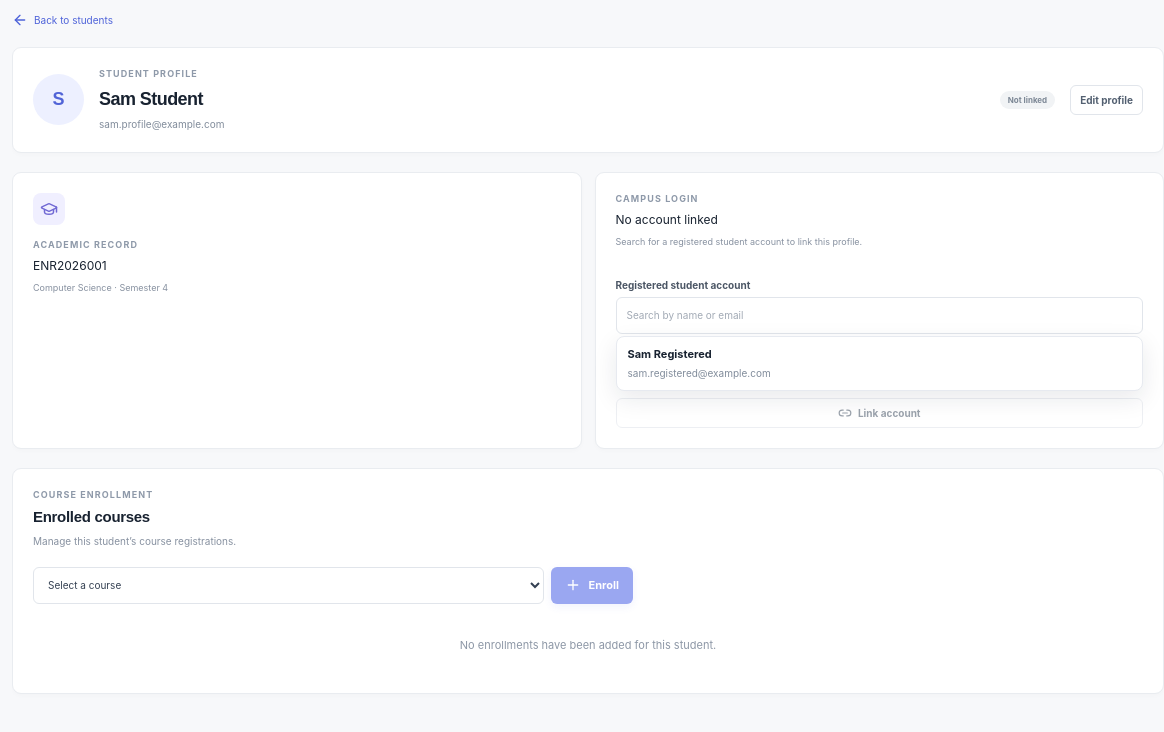
Test: Student account linking › searches, selects with the keyboard, and links the selected UUID
The width and height of the screenshot is (1164, 732).
In the dropdown labelled "Registered student account": (879, 316) [616,297,1143,334], type "Sam Registered"
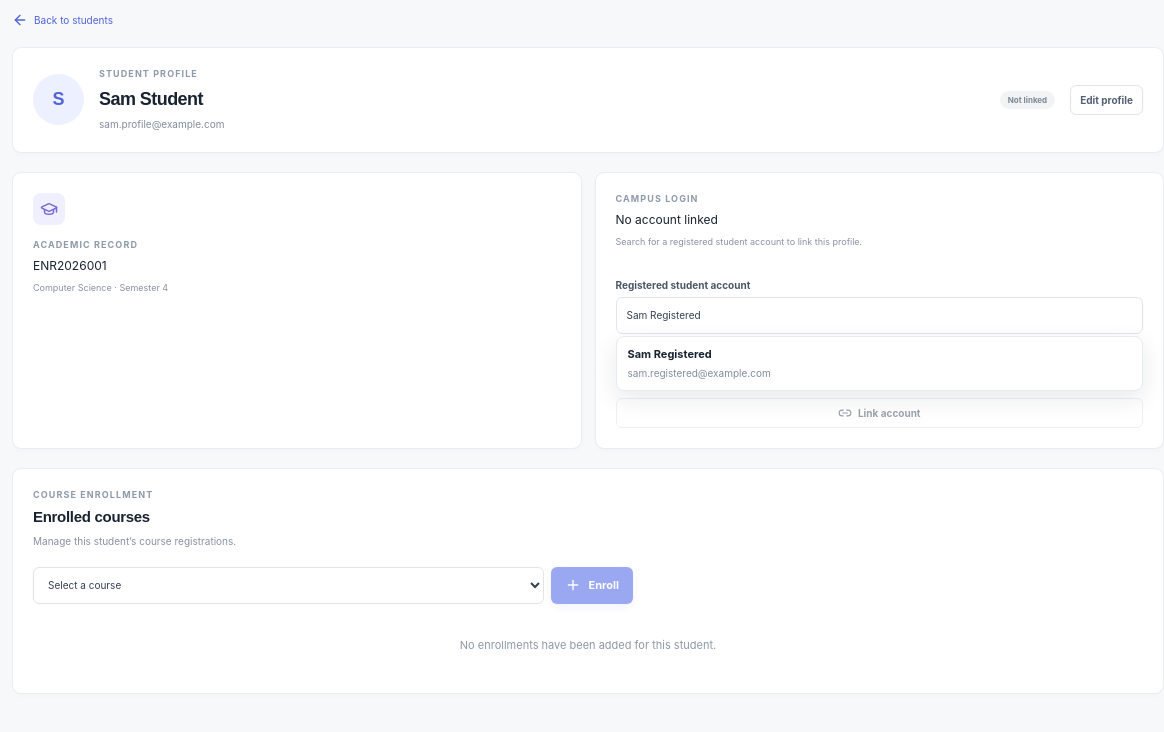
Press ArrowDown in the dropdown labelled "Registered student account", box [616,297,1143,334]
Press Enter in the dropdown labelled "Registered student account", box [616,297,1143,334]
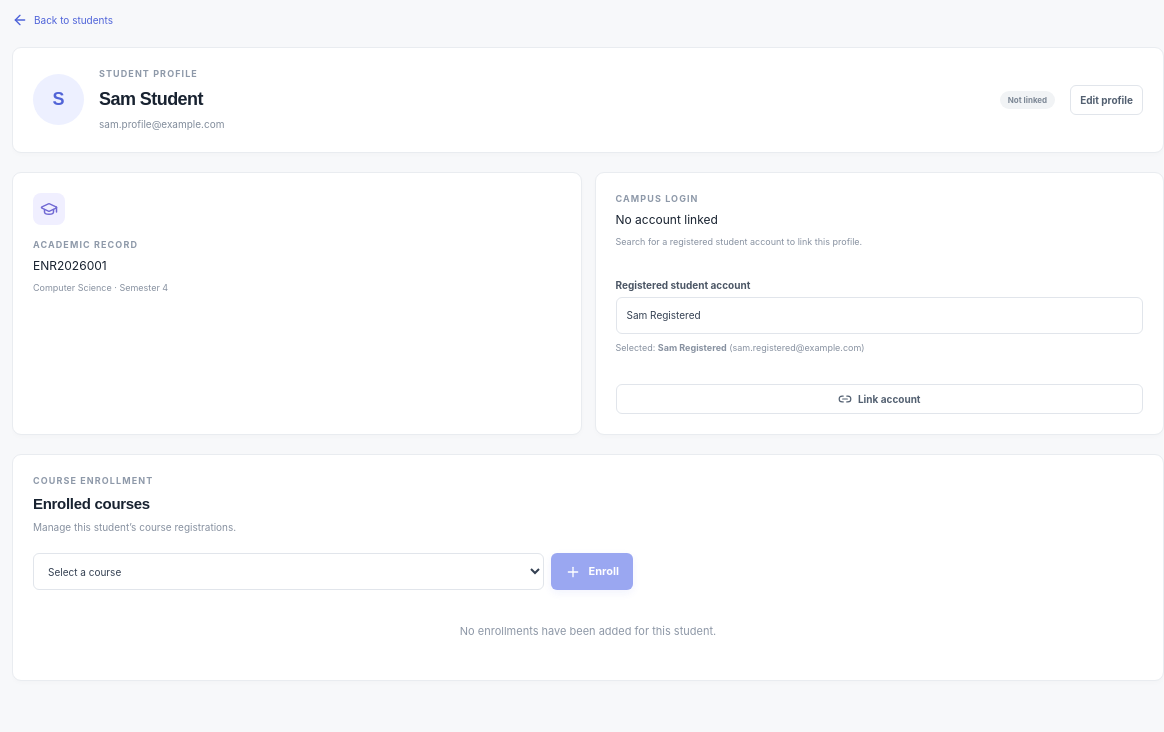
Result: the message with class "selected-account" shows "Sam Registered" at [658,342,727,353]
Click the button "Link account": click(879, 399) [616,384,1143,414]
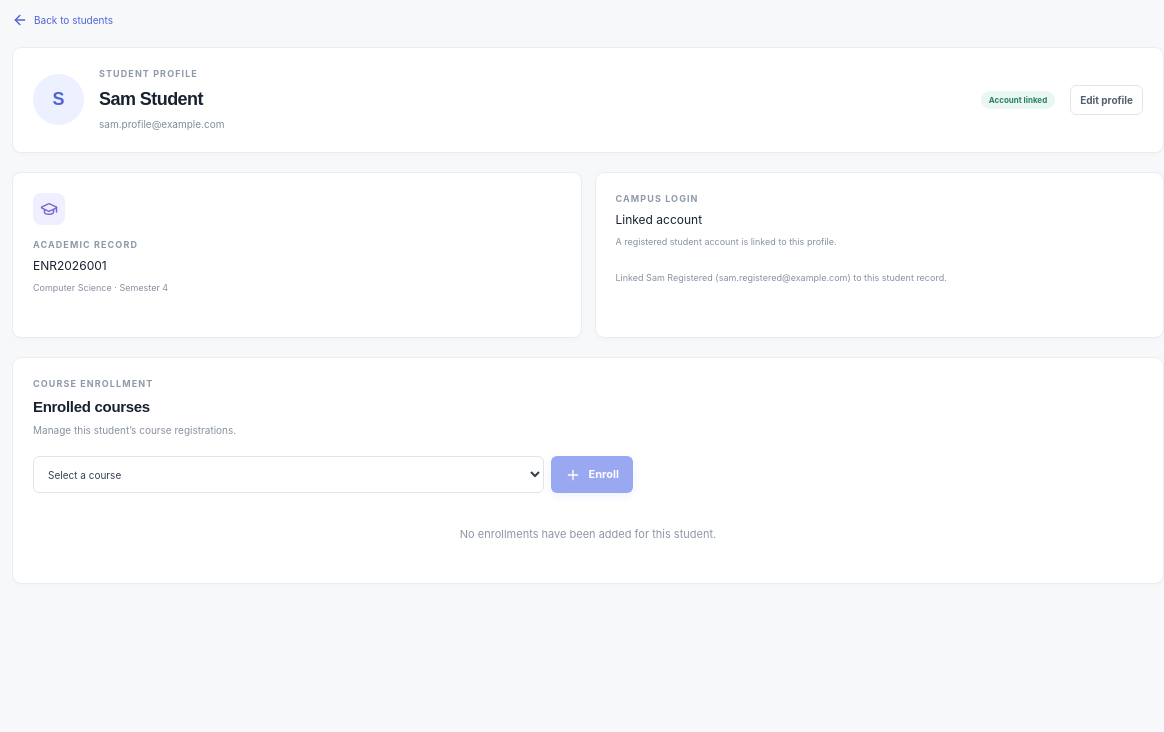
Result: the text "Linked Sam Registered (sam.registered@example.com) to this student record." is shown at [616,272,947,283]
